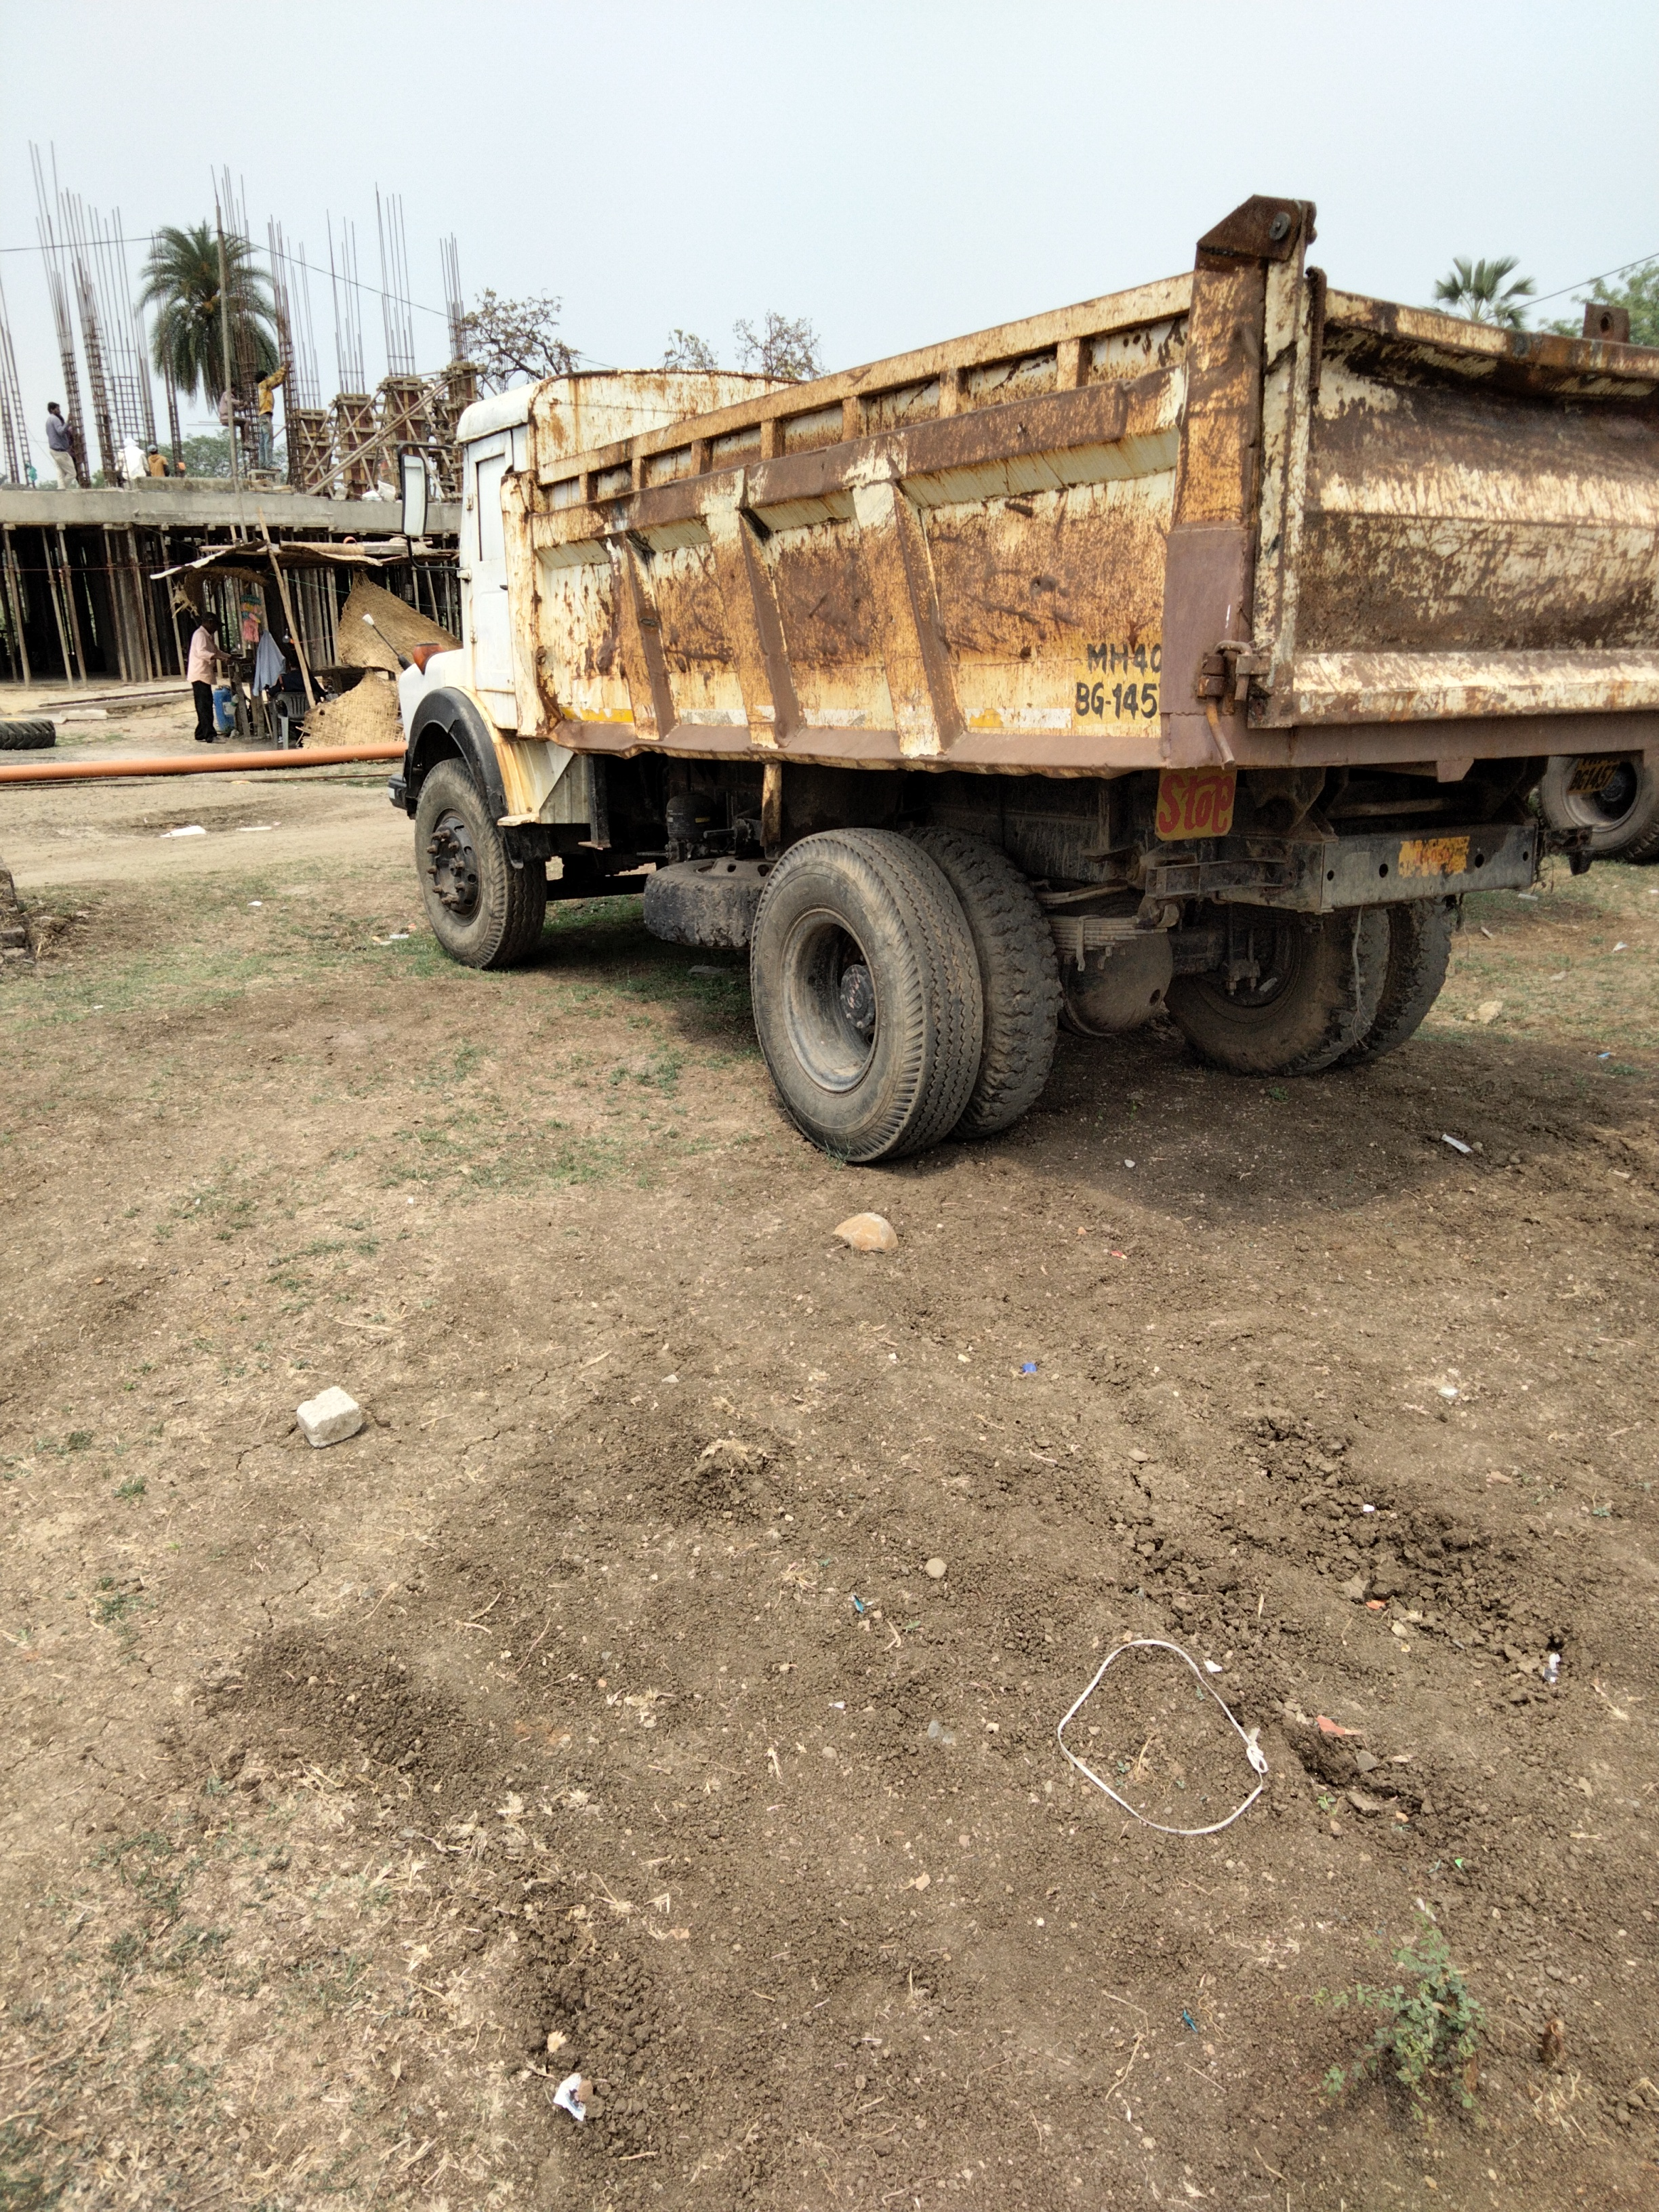truck: (382, 190, 1659, 1170)
